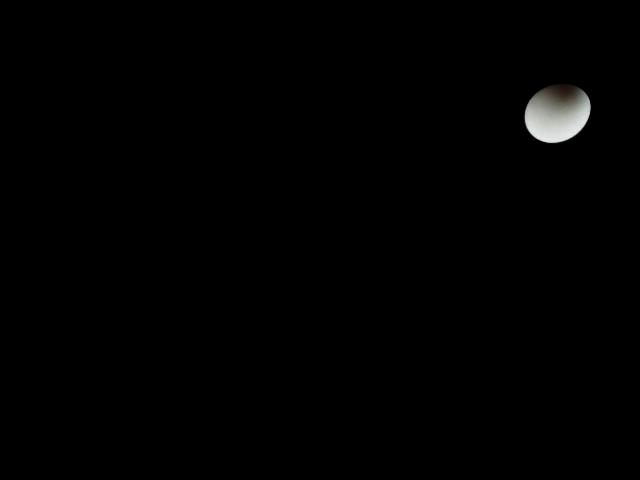egg: (524, 83, 591, 143)
